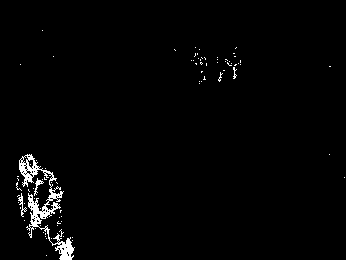person: (15, 150, 74, 260)
